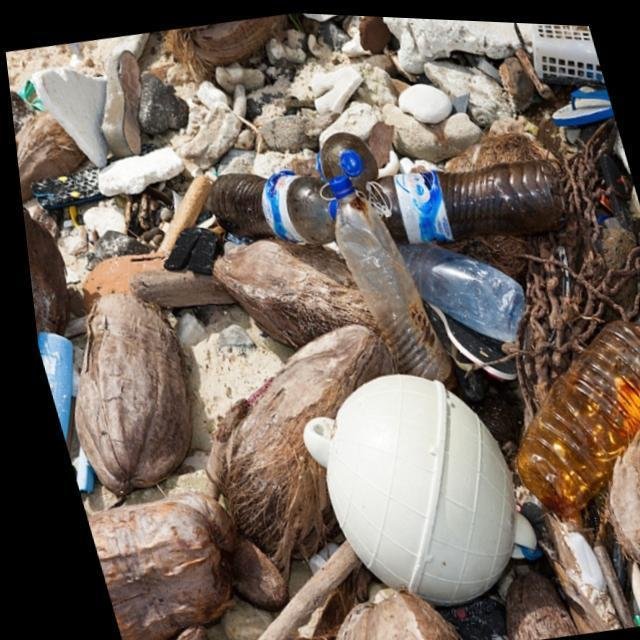Plastic: (293, 370, 524, 601), (530, 18, 604, 81), (550, 84, 611, 121)
Plastic_bottle: (507, 304, 640, 512), (325, 171, 446, 384), (364, 155, 561, 237), (392, 239, 519, 338), (205, 167, 332, 241), (313, 129, 375, 188)
Tin_box: (30, 331, 65, 439)
